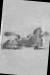E23: (2, 0, 49, 74)
